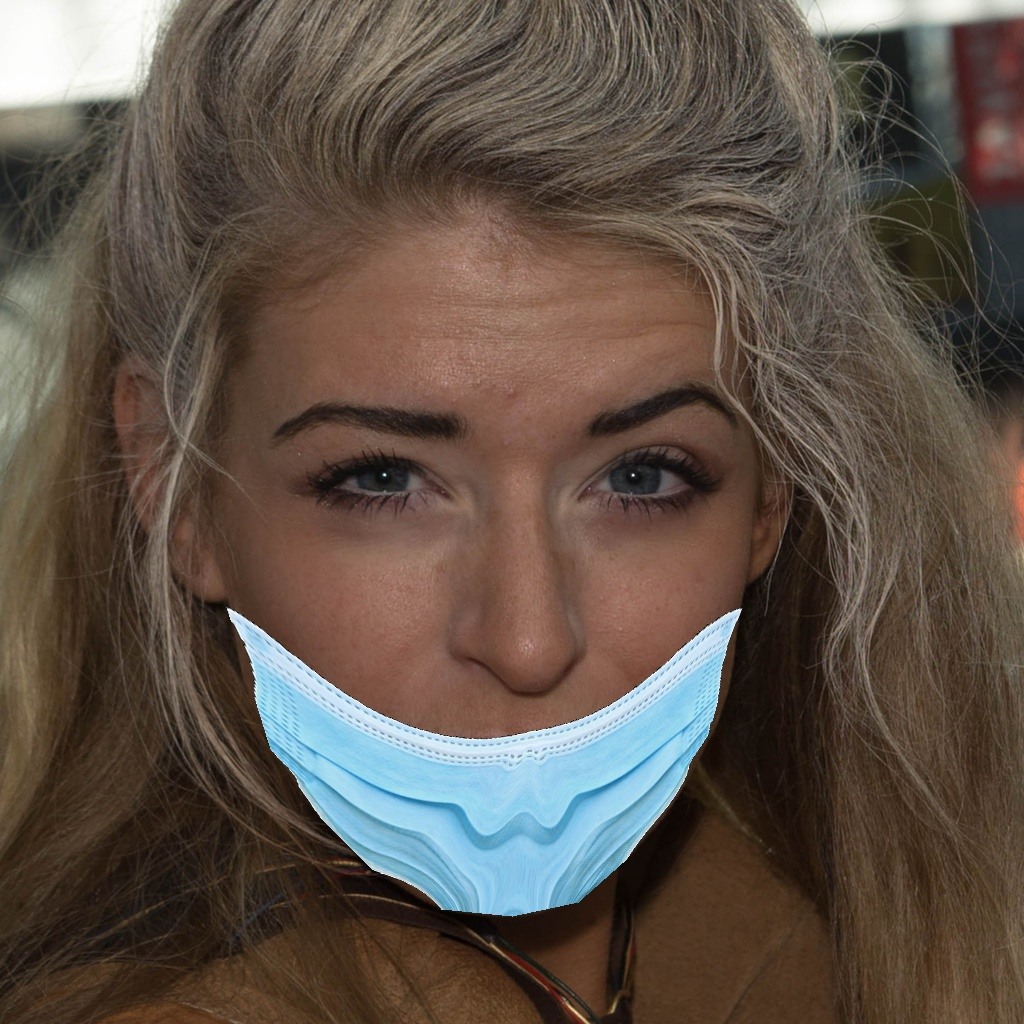mask_weared_incorrect: (225, 363, 789, 923)
